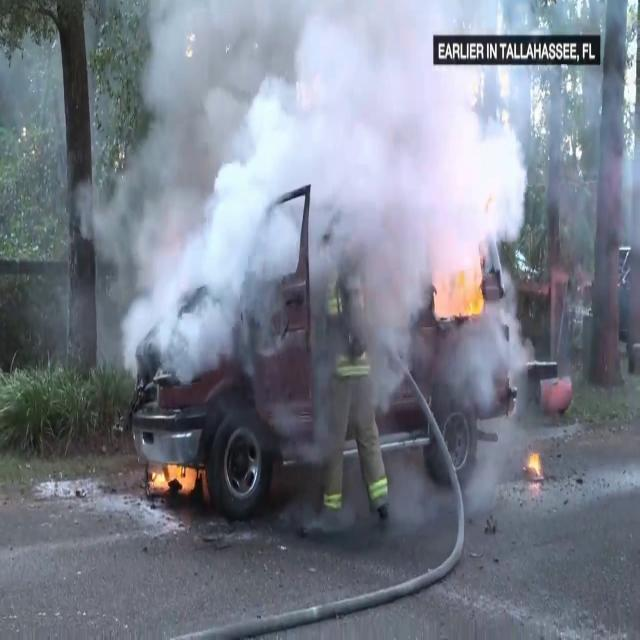Fire: (437, 262, 486, 324), (148, 448, 202, 501), (524, 441, 544, 482)
Smoke: (94, 0, 524, 361)
